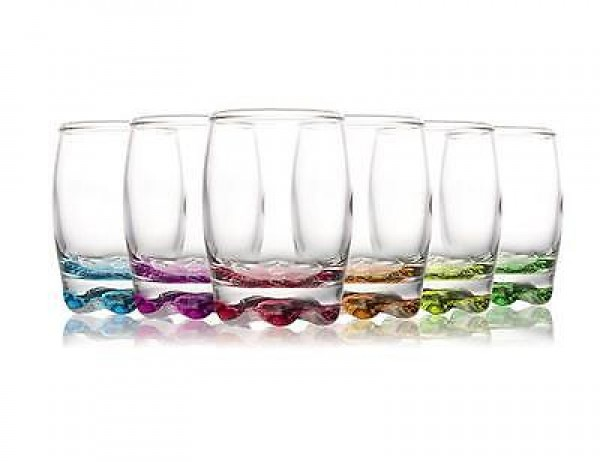Nonrec_Glass: (50, 112, 560, 332)
